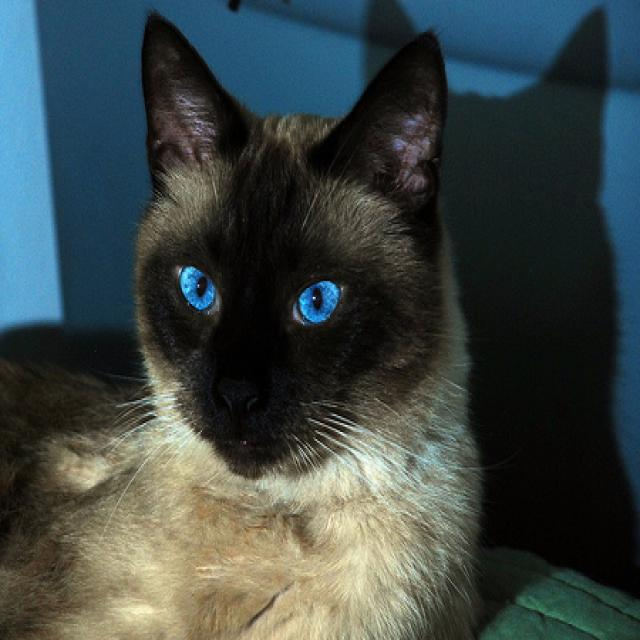Siamese: (0, 2, 492, 640)
